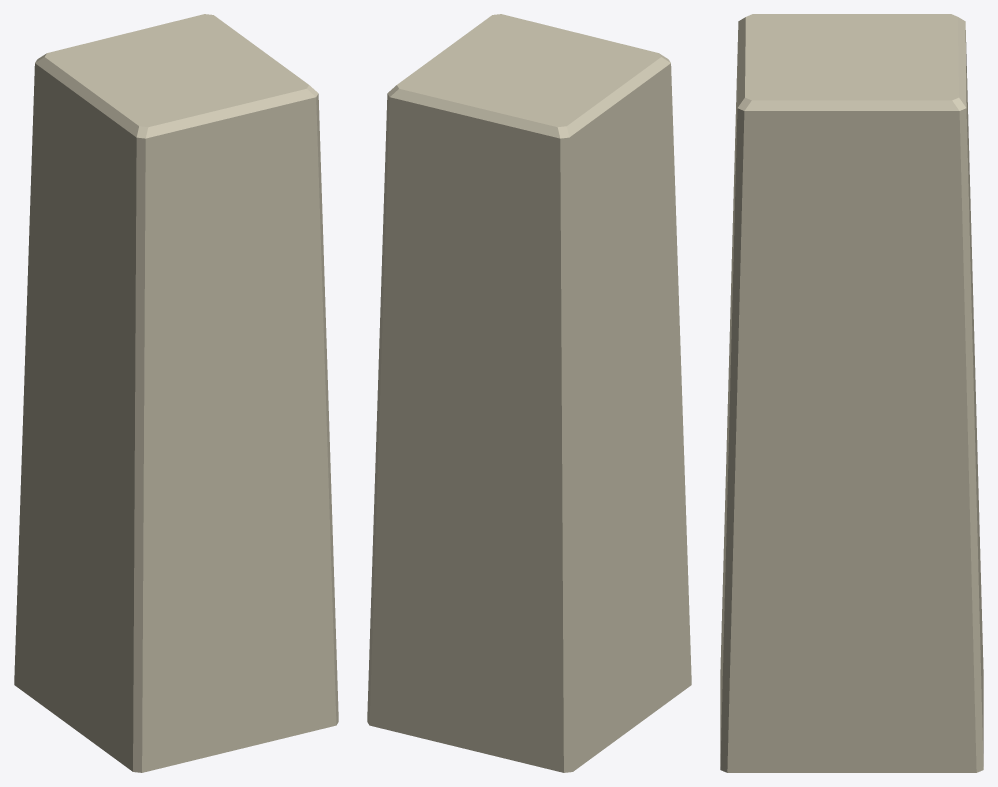
Rendered from Rock_Square_l_01.fbx.
3 renders of one model, left to right at view 1: azimuth 30°, elevation 25°; view 2: azimuth 150°, elevation 25°; view 3: azimuth 270°, elevation 25°, orthographic. The views are drawn at different scales.
Parts seen in each view (by area): view 1: Rock_Square_l_01; view 2: Rock_Square_l_01; view 3: Rock_Square_l_01.
Boxes of the visible parts, left/top/right/bottom form: Rock_Square_l_01: left=14, top=14, right=338, bottom=772; Rock_Square_l_01: left=367, top=14, right=691, bottom=772; Rock_Square_l_01: left=720, top=14, right=983, bottom=772.
Bounding box in the file's own units: 1.37 × 4.04 × 1.45.
